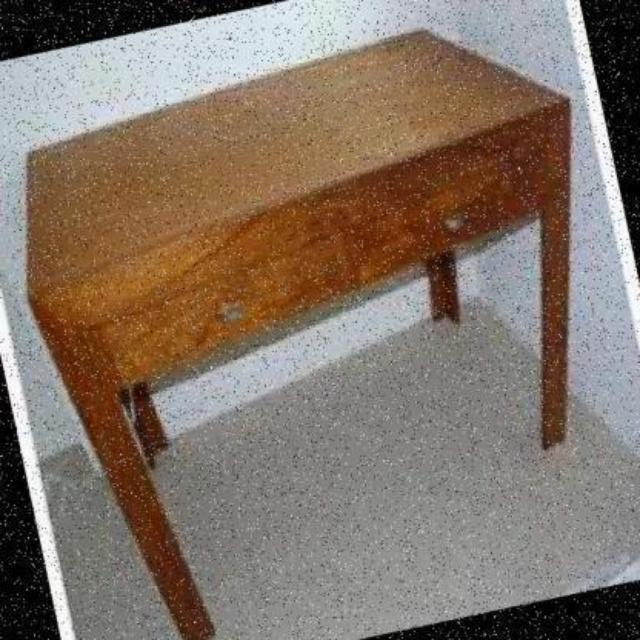table: (30, 26, 576, 640)
